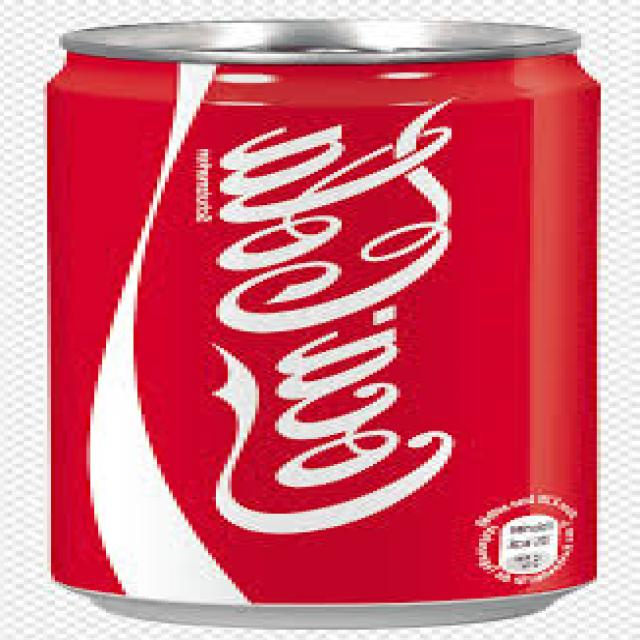Coca-Cola: (26, 0, 624, 630)
